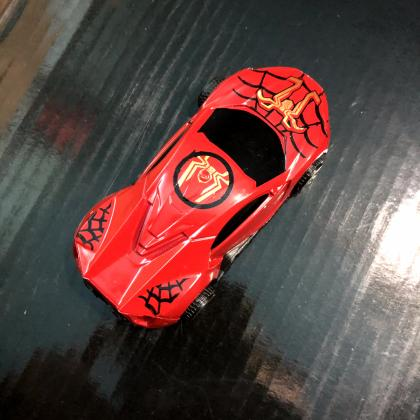Car: (73, 66, 331, 331)
